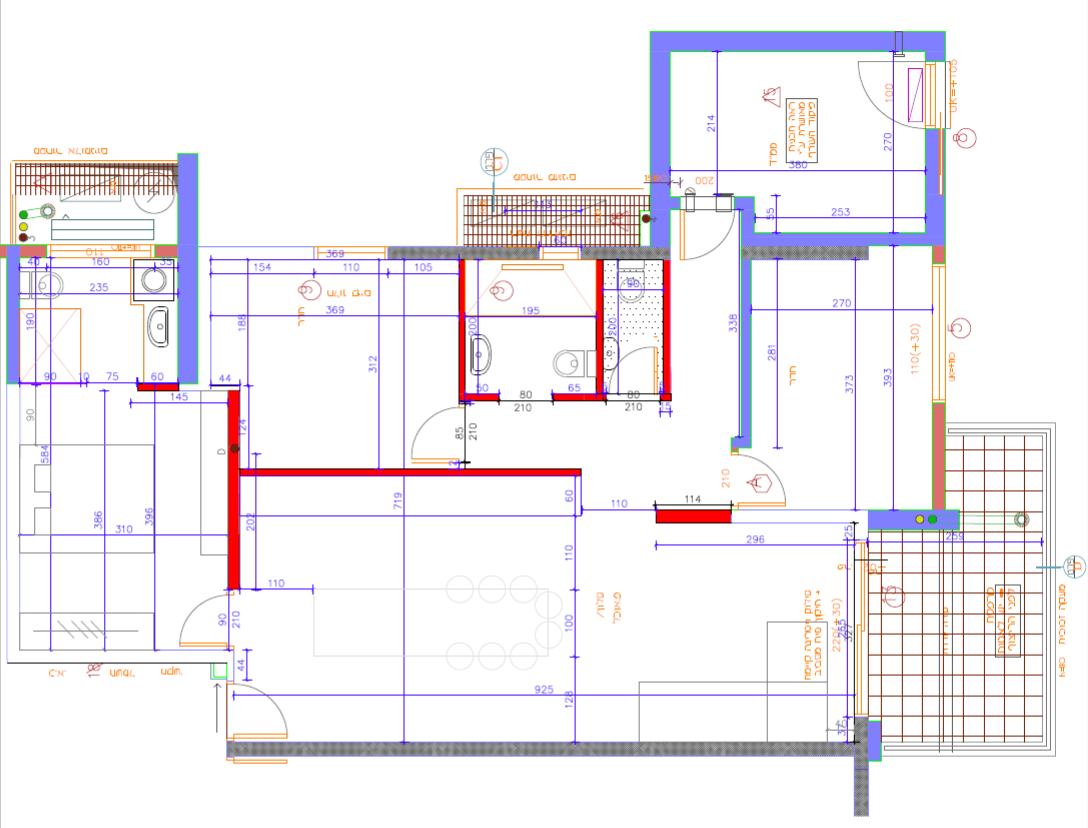door: (854, 52, 919, 146), (243, 683, 311, 740), (675, 219, 733, 276), (411, 400, 459, 461), (747, 452, 793, 508)
wall: (241, 743, 866, 757), (659, 29, 939, 54), (178, 155, 199, 382), (751, 232, 938, 246), (228, 397, 241, 587), (654, 35, 666, 224), (7, 248, 22, 384), (657, 510, 731, 526)
window: (931, 263, 946, 404)
